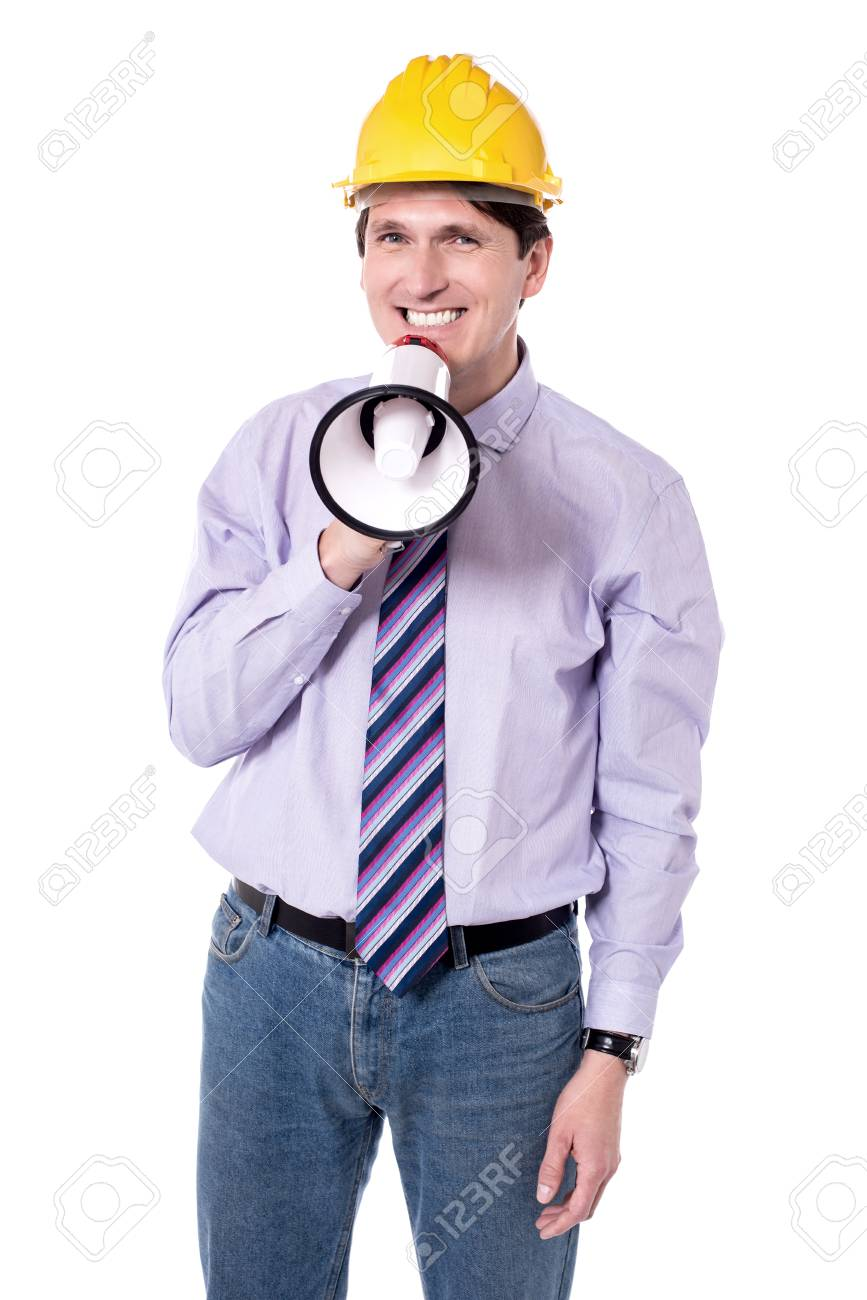Person_wearing_helmet: (323, 40, 577, 277)
